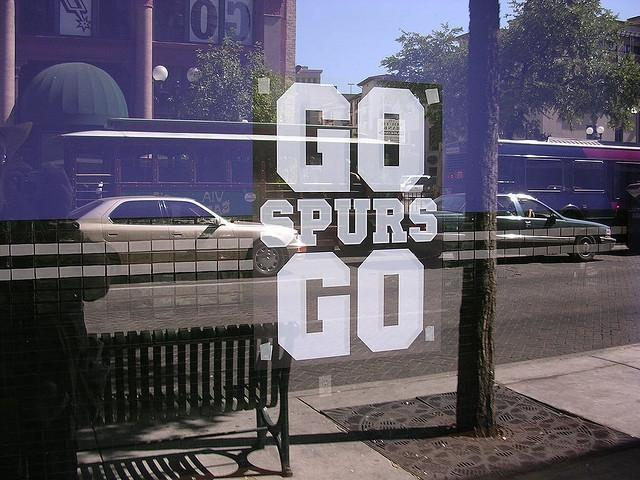bus: (65, 120, 428, 222), (441, 138, 639, 224)
car: (70, 196, 306, 283), (374, 192, 623, 261)
